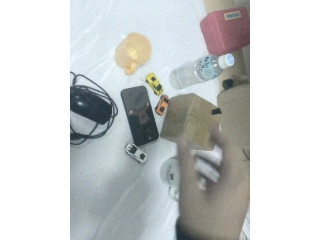bottle: (168, 54, 235, 89)
box: (160, 94, 216, 153)
cup: (115, 32, 152, 76)
mouse: (70, 72, 116, 127)
phone: (121, 85, 159, 147)
toy_car: (124, 142, 148, 163), (145, 72, 163, 96), (155, 95, 170, 116)
